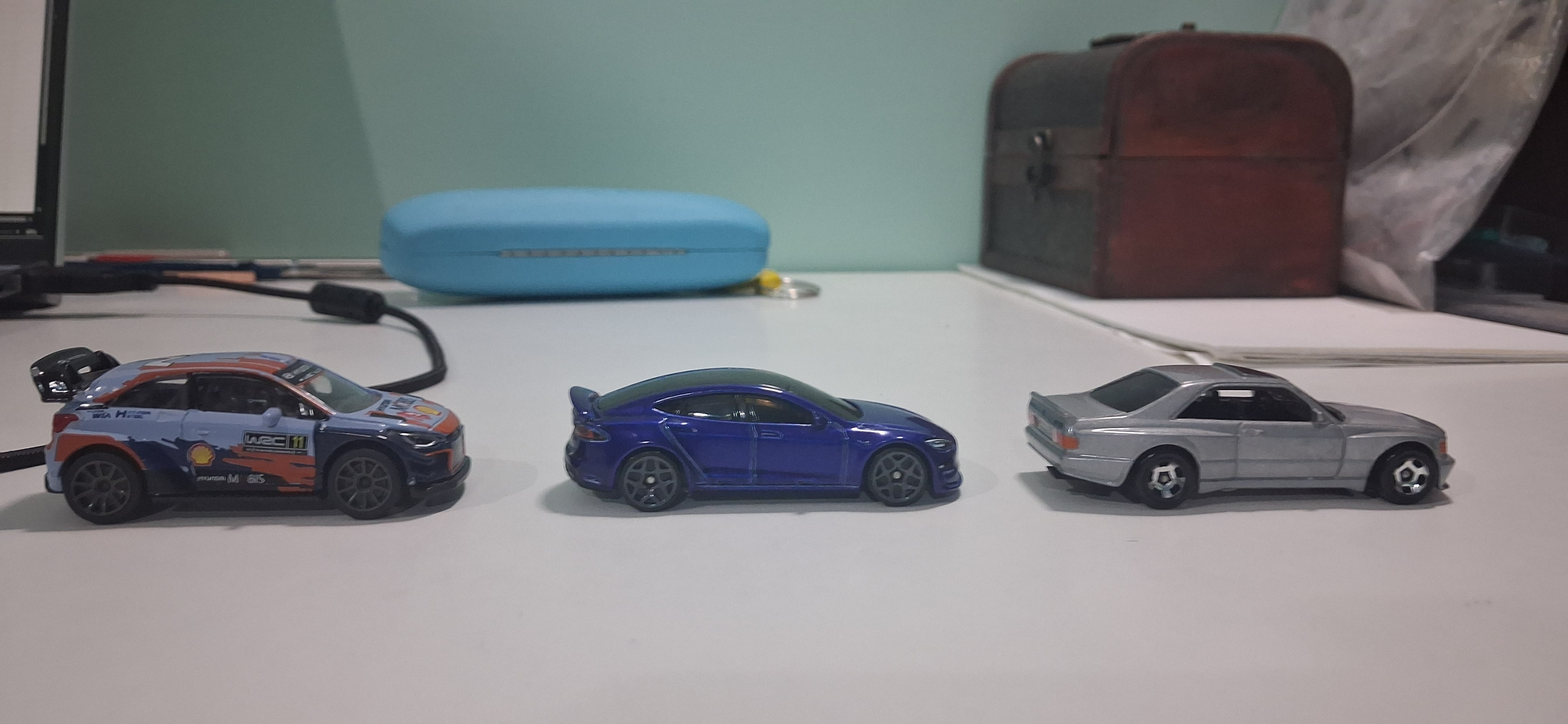Hyundai_I20_WRC: (21, 318, 493, 568)
Mercedes_Benz_560_SEC_AMG: (1004, 321, 1464, 567)
Tesla_Model_S_Plaid: (540, 326, 972, 560)
